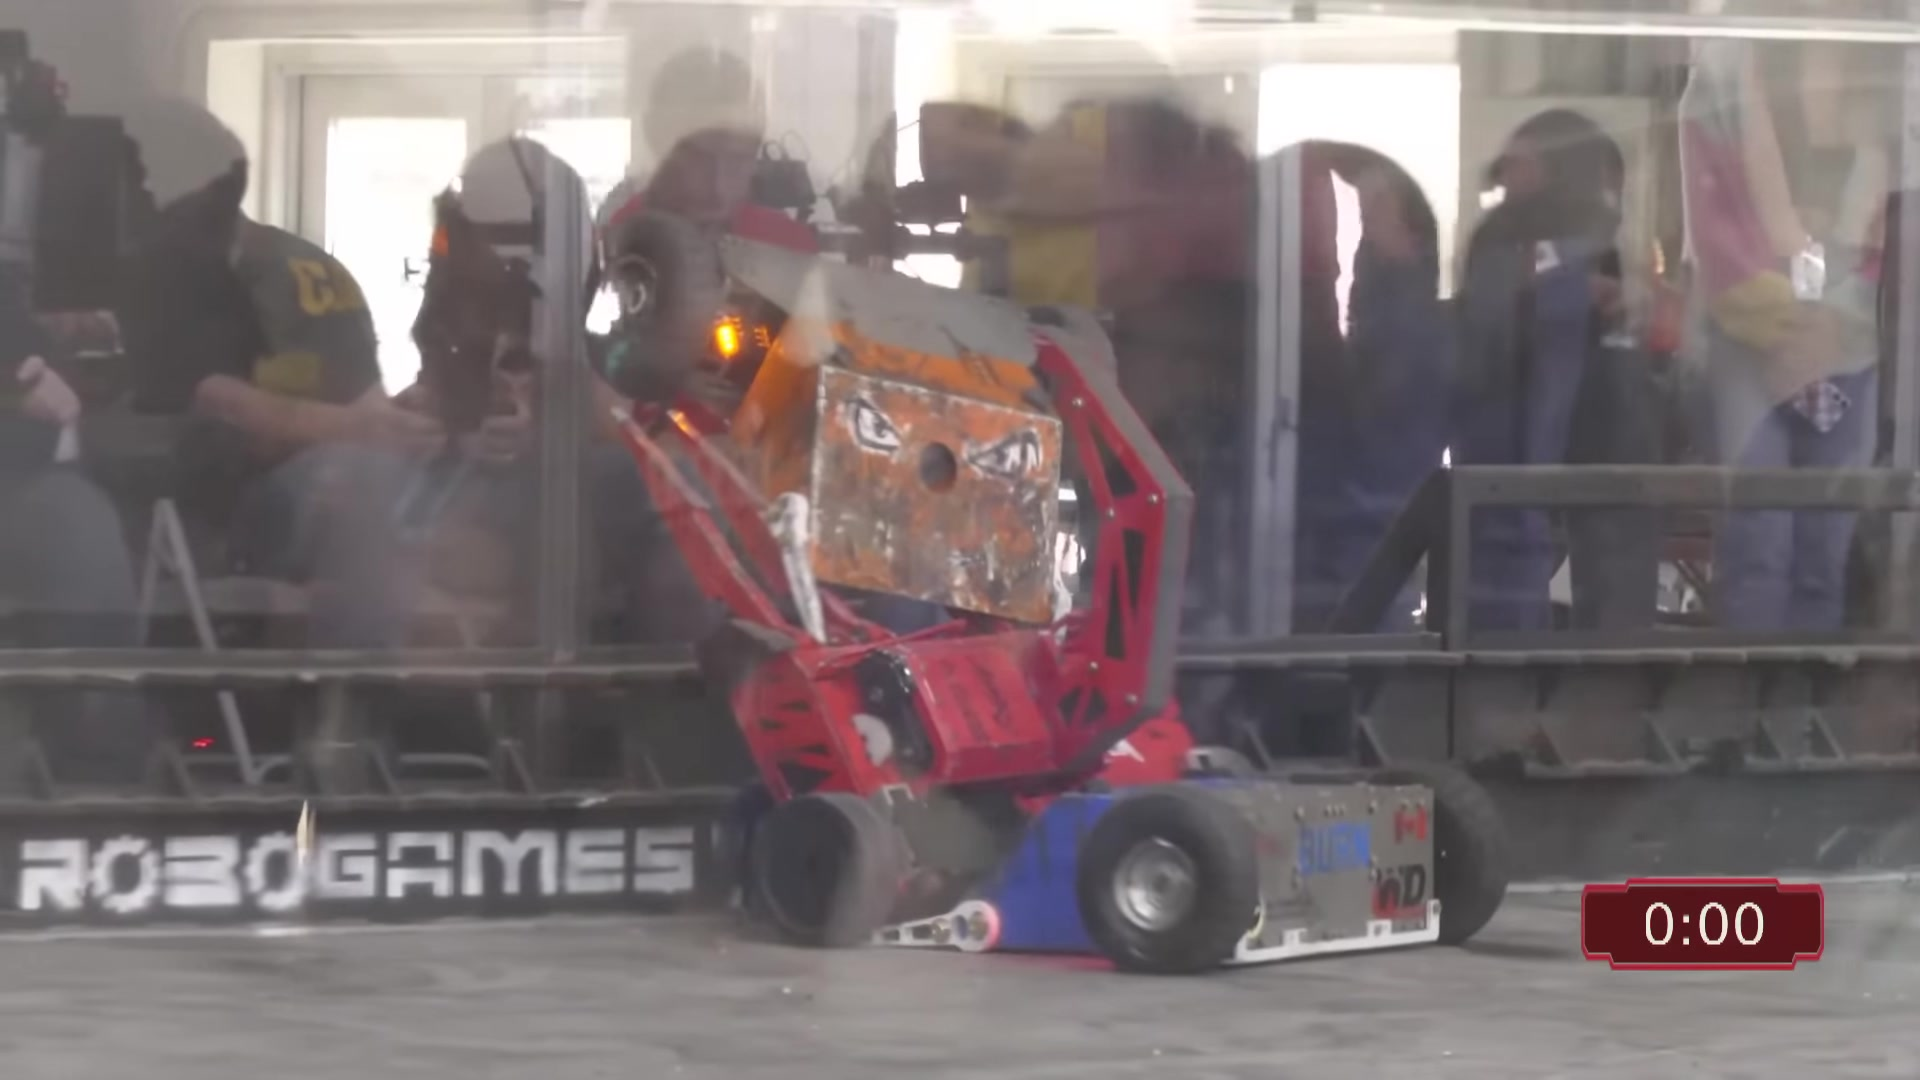combatbot: (731, 335, 1195, 945), (585, 211, 1118, 630), (969, 769, 1506, 973)
